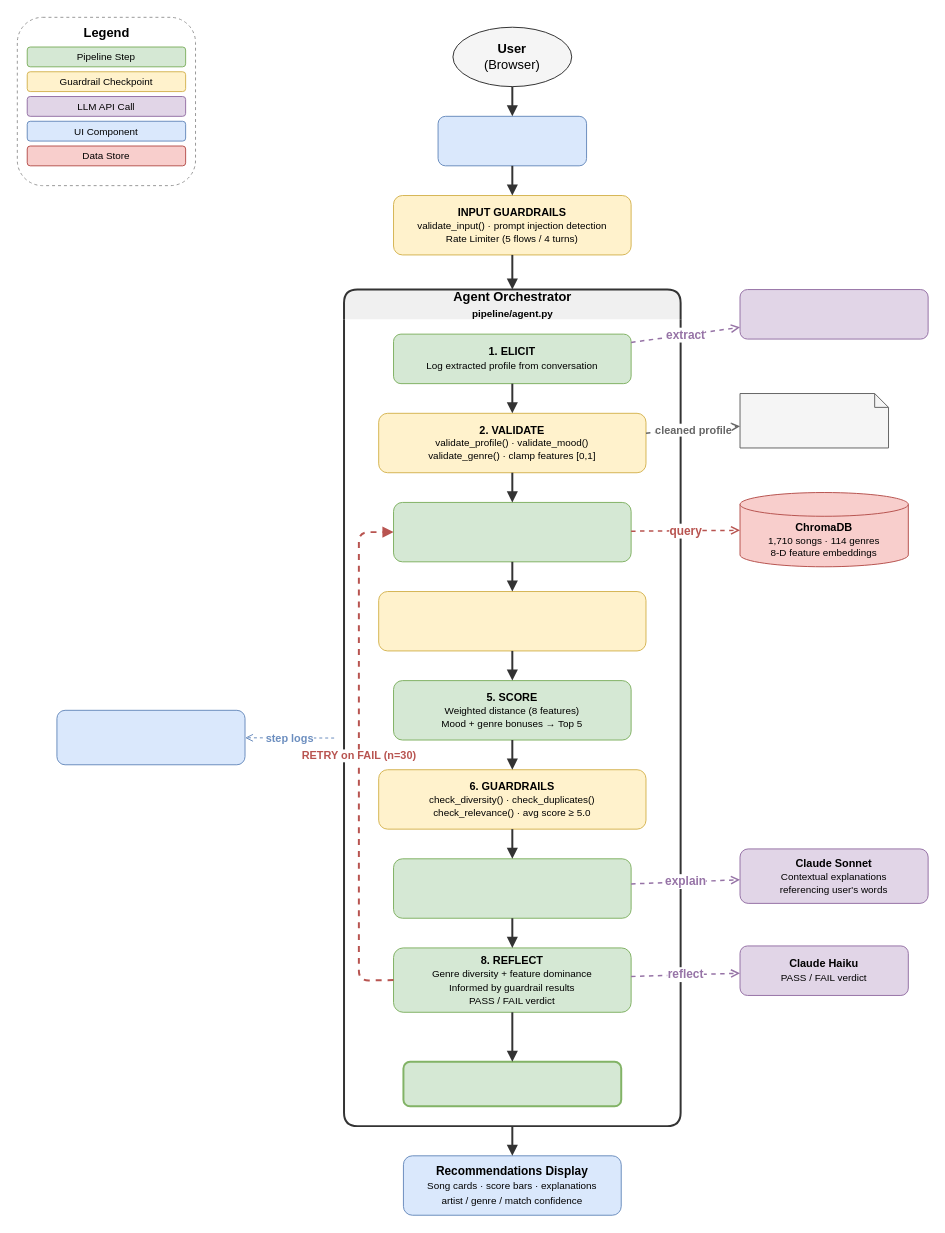
This 945x1233 diagram has some shape labels left out. Each missing label, with the centre of its shape:
"3. RETRIEVE Cosine similarity search (n=20) Genre filter + backfill" belongs at (x=512, y=531).
"4. CHECK CANDIDATES Verify minimum 5 candidates retrieved Early exit on failure" belongs at (x=512, y=621).
"7. EXPLAIN Natural-language explanations References user's own words" belongs at (x=512, y=888).
"Claude Haiku Tool Use → Structured Output" belongs at (x=833, y=314).
"Sidebar Observable Pipeline Steps Extracted Profile Display" belongs at (x=150, y=737).
"Streamlit UI app.py" belongs at (x=512, y=140).
"Top 5 Recommendations songs + scores + explanations" belongs at (x=512, y=1083).
"UserProfile 8 features + mood + genre_hint" belongs at (x=814, y=420).
